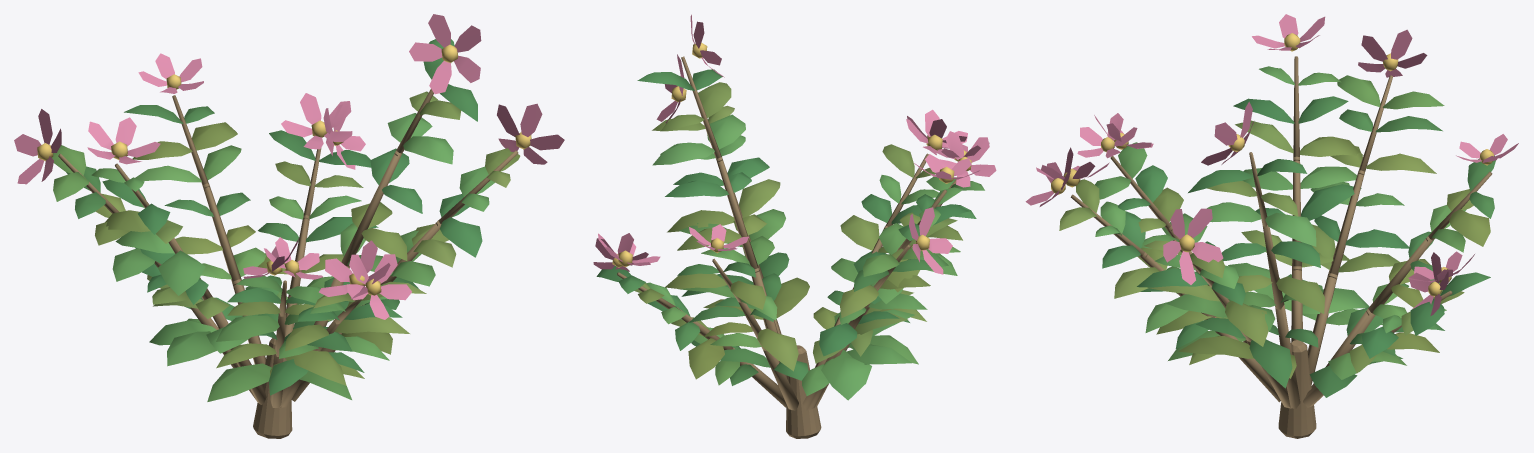
The model's file is flower_bush.glb.
3 renders of one model, left to right at view 1: azimuth 30°, elevation 25°; view 2: azimuth 150°, elevation 25°; view 3: azimuth 270°, elevation 25°, orthographic. The views are drawn at different scales.
Parts seen in each view (by area): view 1: flower_bush; view 2: flower_bush; view 3: flower_bush.
Part boxes in pixels (x1,y1,x2,y2): flower_bush: [14, 14, 564, 438]; flower_bush: [593, 14, 996, 438]; flower_bush: [1025, 14, 1518, 438].
Bounding box in the file's own units: 1.17 × 1.06 × 1.2.
